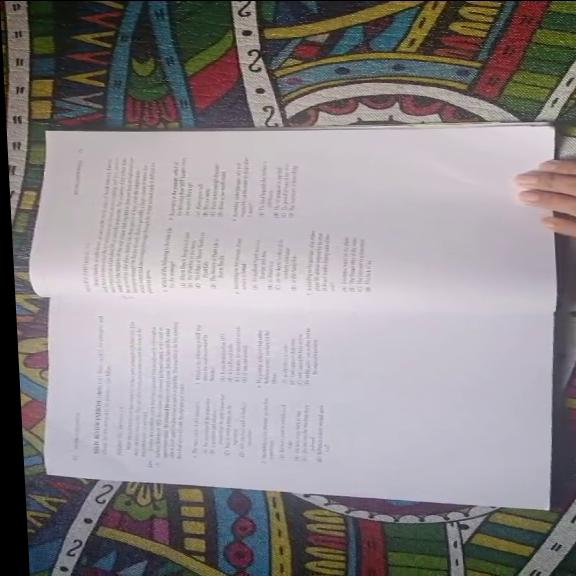Kertas: (53, 240, 549, 481), (46, 297, 553, 507), (32, 126, 553, 298)
